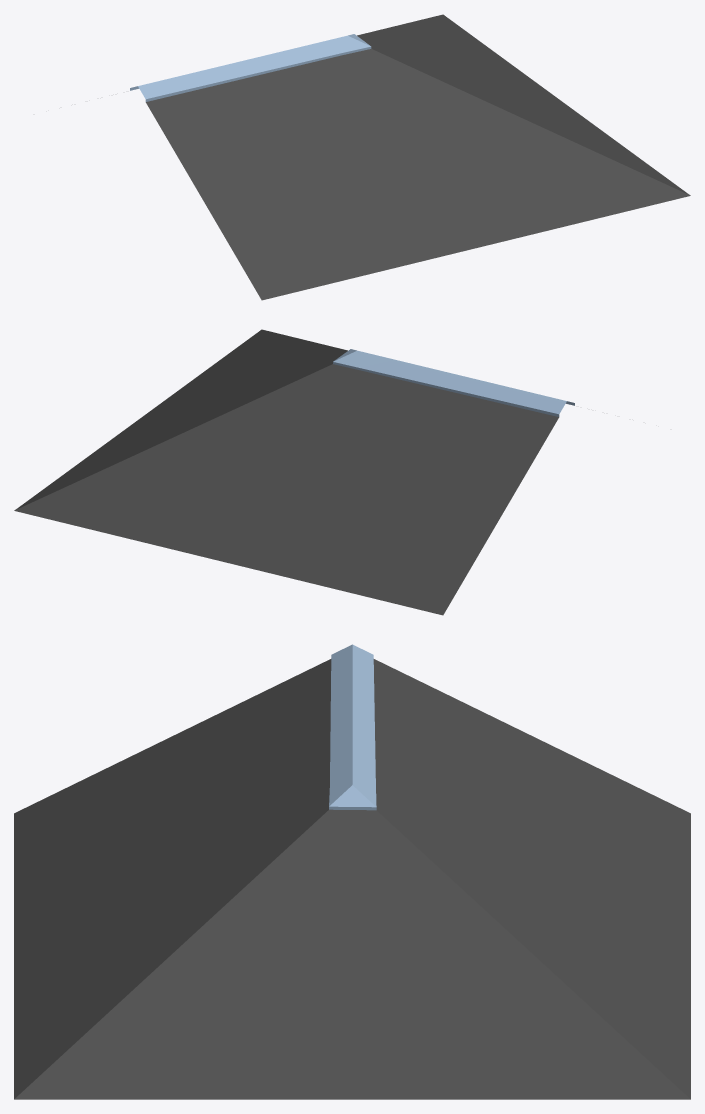
Rendered from House01_Roof_Angled_Short_End_01.fbx.
The picture shows the model from 3 angles, top to bottom: view 1: azimuth 30°, elevation 25°; view 2: azimuth 150°, elevation 25°; view 3: azimuth 270°, elevation 25°; orthographic projection. The views are drawn at different scales.
Parts seen in each view (by area): view 1: SM_Bld_House_Roof_Angled_Cap_Short_02; view 2: SM_Bld_House_Roof_Angled_Cap_Short_02; view 3: SM_Bld_House_Roof_Angled_Cap_Short_02.
Part boxes in pixels (<box>): SM_Bld_House_Roof_Angled_Cap_Short_02: <box>130,14,690,300</box>; SM_Bld_House_Roof_Angled_Cap_Short_02: <box>14,329,574,615</box>; SM_Bld_House_Roof_Angled_Cap_Short_02: <box>14,644,690,1099</box>.
Size of the model in its own units: 250 by 68.86 by 250.
